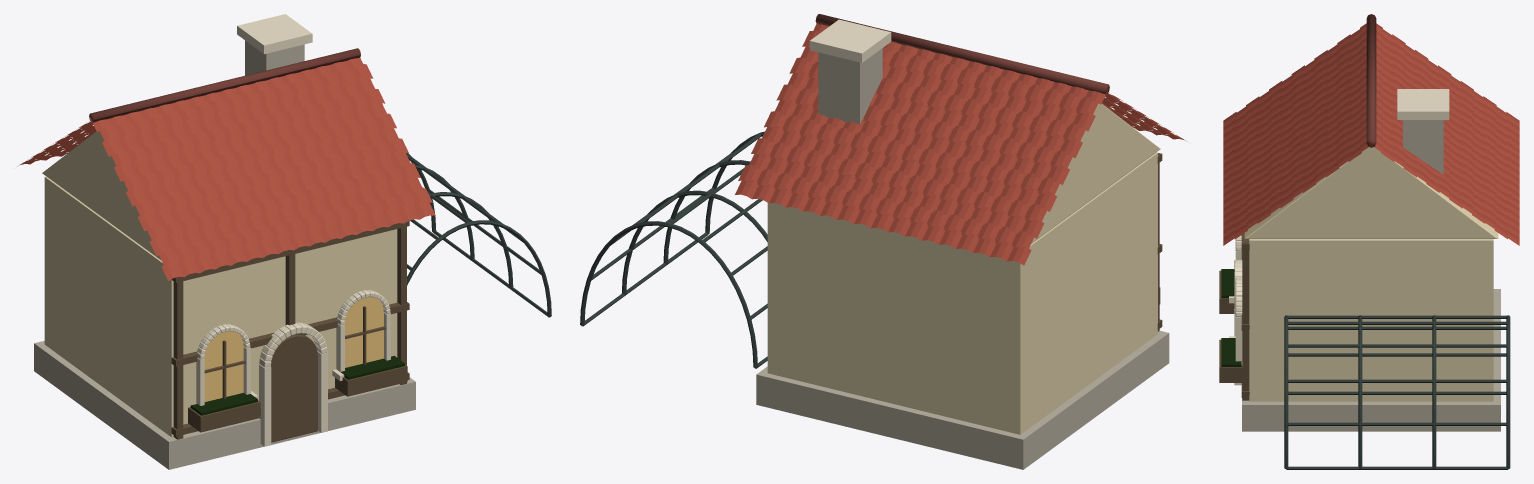
The model's file is cottage.glb.
3 renders of one model, left to right at view 1: azimuth 30°, elevation 25°; view 2: azimuth 150°, elevation 25°; view 3: azimuth 270°, elevation 25°, orthographic. The views are drawn at different scales.
Visible parts, largest first — view 1: cottage_roof, cottage_plaster, cottage_wood, cottage_stone, cottage_ivory, cottage_window, cottage_iron, cottage_roofdark, cottage_stem; view 2: cottage_plaster, cottage_roof, cottage_stone, cottage_iron, cottage_roofdark, cottage_ivory; view 3: cottage_plaster, cottage_roof, cottage_iron, cottage_stone, cottage_ivory, cottage_wood, cottage_roofdark, cottage_stem.
Boxes of the visible parts, x1=… form: cottage_roof: x1=17, y1=57, x2=435, y2=280; cottage_plaster: x1=42, y1=131, x2=397, y2=437; cottage_wood: x1=171, y1=220, x2=409, y2=442; cottage_stone: x1=34, y1=40, x2=415, y2=469; cottage_ivory: x1=192, y1=14, x2=390, y2=446; cottage_window: x1=204, y1=297, x2=383, y2=401; cottage_iron: x1=406, y1=153, x2=551, y2=317; cottage_roofdark: x1=89, y1=48, x2=360, y2=122; cottage_stem: x1=190, y1=355, x2=404, y2=415; cottage_plaster: x1=767, y1=103, x2=1160, y2=434; cottage_roof: x1=735, y1=24, x2=1187, y2=265; cottage_stone: x1=756, y1=48, x2=1169, y2=469; cottage_iron: x1=580, y1=131, x2=767, y2=368; cottage_roofdark: x1=815, y1=14, x2=1109, y2=94; cottage_ivory: x1=809, y1=19, x2=891, y2=62; cottage_plaster: x1=1244, y1=147, x2=1498, y2=401; cottage_roof: x1=1223, y1=23, x2=1519, y2=245; cottage_iron: x1=1284, y1=315, x2=1510, y2=469; cottage_stone: x1=1242, y1=120, x2=1500, y2=431; cottage_ivory: x1=1229, y1=89, x2=1449, y2=385; cottage_wood: x1=1219, y1=233, x2=1249, y2=400; cottage_roofdark: x1=1366, y1=14, x2=1376, y2=147; cottage_stem: x1=1221, y1=269, x2=1241, y2=366.
Size of the model in its own units: 12.46 by 9.23 by 8.11.
